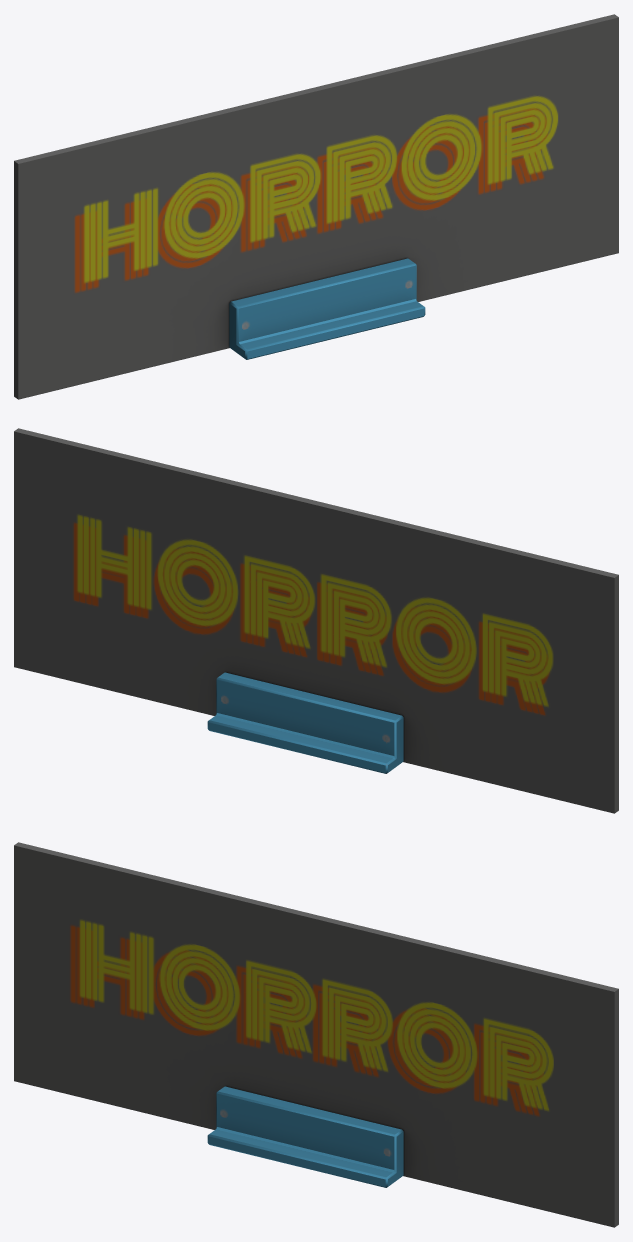
The model's file is video_store_labels_horror.fbx.
The picture shows the model from 3 angles, top to bottom: view 1: azimuth 30°, elevation 25°; view 2: azimuth 150°, elevation 25°; view 3: azimuth 330°, elevation 25°; orthographic projection.
Visible parts, largest first — view 1: Mesh1_Group3_Group2_Group1_Model; view 2: Mesh1_Group3_Group2_Group1_Model; view 3: Mesh1_Group3_Group2_Group1_Model.
Boxes of the visible parts, bbox=[...] form: Mesh1_Group3_Group2_Group1_Model: bbox=[14, 14, 618, 399]; Mesh1_Group3_Group2_Group1_Model: bbox=[14, 428, 618, 813]; Mesh1_Group3_Group2_Group1_Model: bbox=[14, 842, 618, 1227].
Bounding box in the file's own units: 40 × 15 × 4.5.
Materials: 1 (1 with a texture image).
